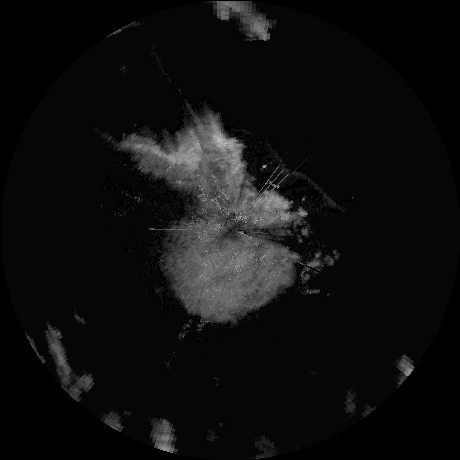frontgust: (269, 151, 347, 213)
